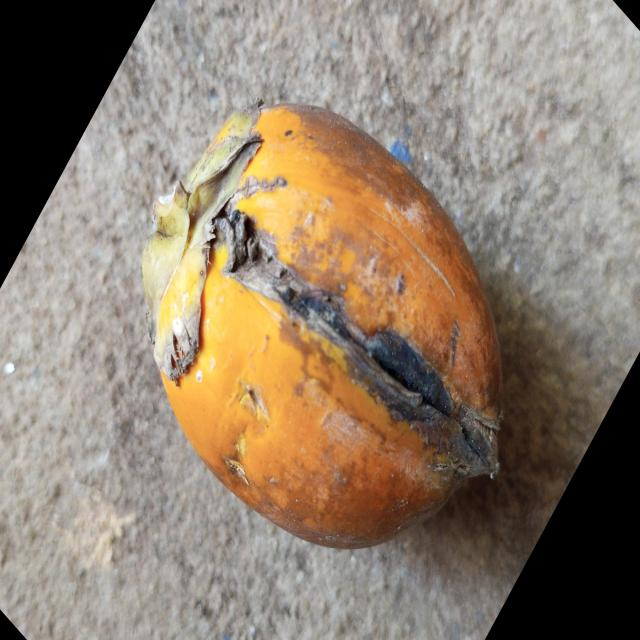damaged: (141, 104, 502, 553)
